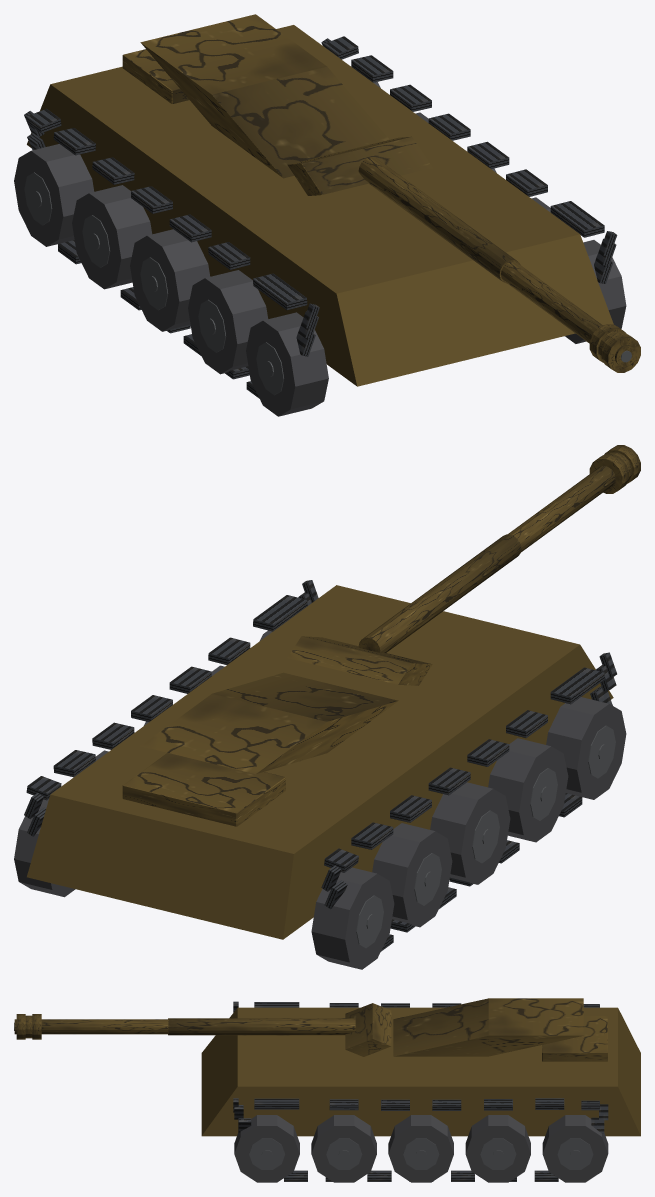
The model's file is lance_LOD2.glb.
The picture shows the model from 3 angles, top to bottom: view 1: azimuth 30°, elevation 25°; view 2: azimuth 150°, elevation 25°; view 3: azimuth 270°, elevation 25°; orthographic projection. The views are drawn at different scales.
Visible parts, largest first — view 1: HullMesh, Wheels_L, CasemateMesh, TrackL, TrackR, Gun_tube1, Gun_tube2, Wheels_R, Gun_brk1; view 2: HullMesh, Wheels_L, CasemateMesh, TrackL, TrackR, Gun_tube1, Gun_tube2, Wheels_R, Gun_brk2; view 3: HullMesh, Wheels_R, CasemateMesh, TrackR, Gun_tube1, Gun_tube2, TrackL.
Boxes of the visible parts, x1,y1,x2,y2 form: HullMesh: [27, 25, 613, 386]; Wheels_L: [14, 144, 328, 416]; CasemateMesh: [140, 14, 432, 195]; TrackL: [24, 108, 319, 398]; TrackR: [321, 36, 617, 283]; Gun_tube1: [358, 157, 520, 283]; Gun_tube2: [501, 261, 635, 366]; Wheels_R: [373, 82, 626, 343]; Gun_brk1: [601, 332, 640, 372]; HullMesh: [27, 585, 613, 939]; Wheels_L: [311, 697, 626, 969]; CasemateMesh: [141, 636, 432, 774]; TrackL: [321, 652, 616, 951]; TrackR: [24, 580, 318, 836]; Gun_tube1: [358, 534, 521, 652]; Gun_tube2: [508, 466, 615, 552]; Wheels_R: [14, 630, 272, 897]; Gun_brk2: [589, 453, 628, 493]; HullMesh: [201, 1007, 640, 1136]; Wheels_R: [234, 1115, 608, 1182]; CasemateMesh: [345, 998, 583, 1056]; TrackR: [233, 1098, 608, 1181]; Gun_tube1: [168, 1018, 355, 1035]; Gun_tube2: [14, 1019, 167, 1034]; TrackL: [233, 1001, 599, 1012].
Bounding box in the file's own units: 3.91 × 1.94 × 9.56.
Materials: 5 (3 with a texture image).
